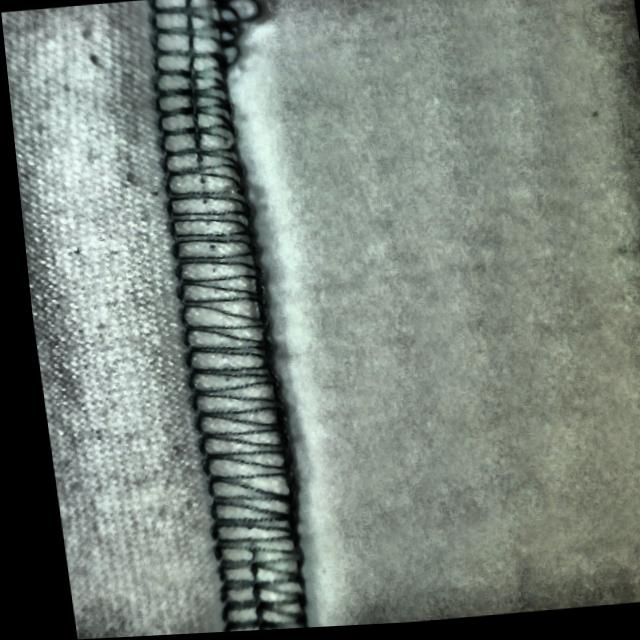Stitch: (139, 0, 270, 76)
